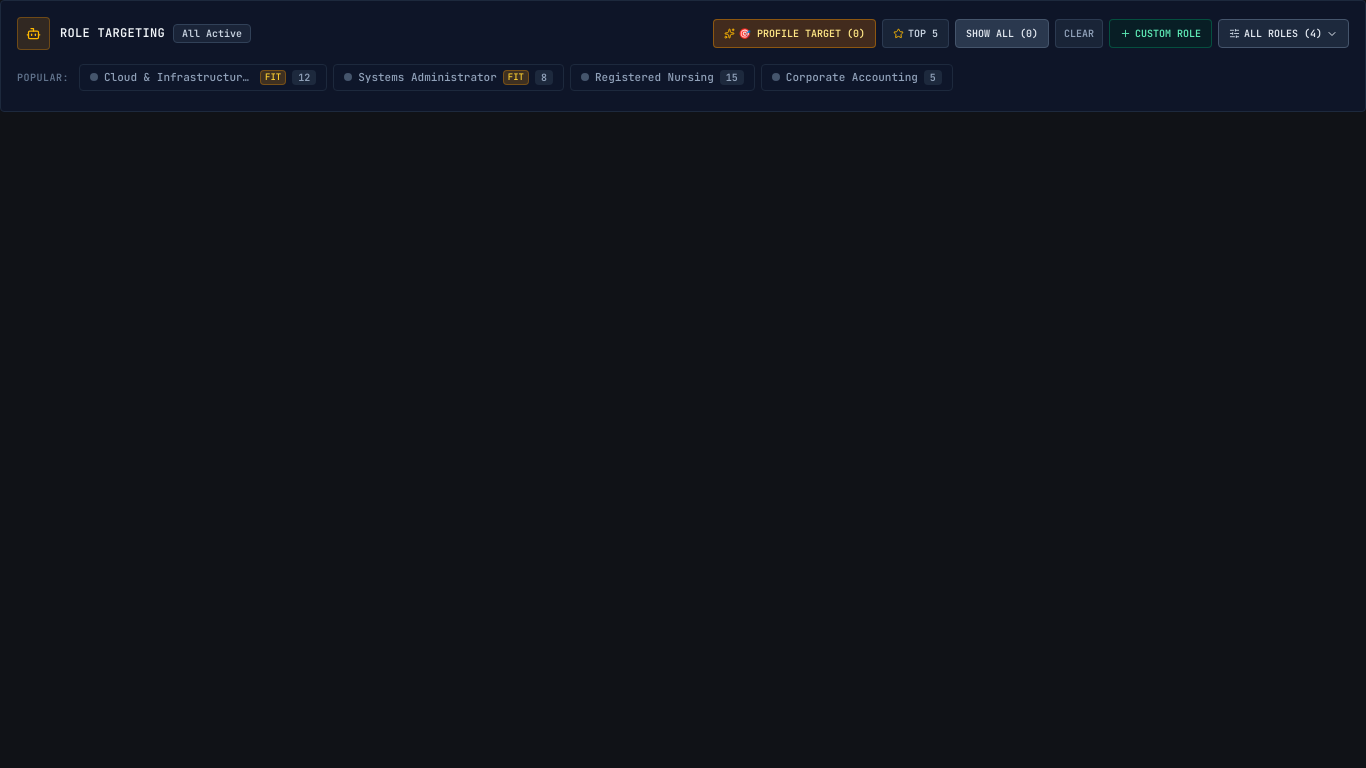
Test: RoleFilterBar › toggles collapsible drawer on click
Click the button "ALL ROLES (4)" at (1284, 34), box [1218,19,1349,48]
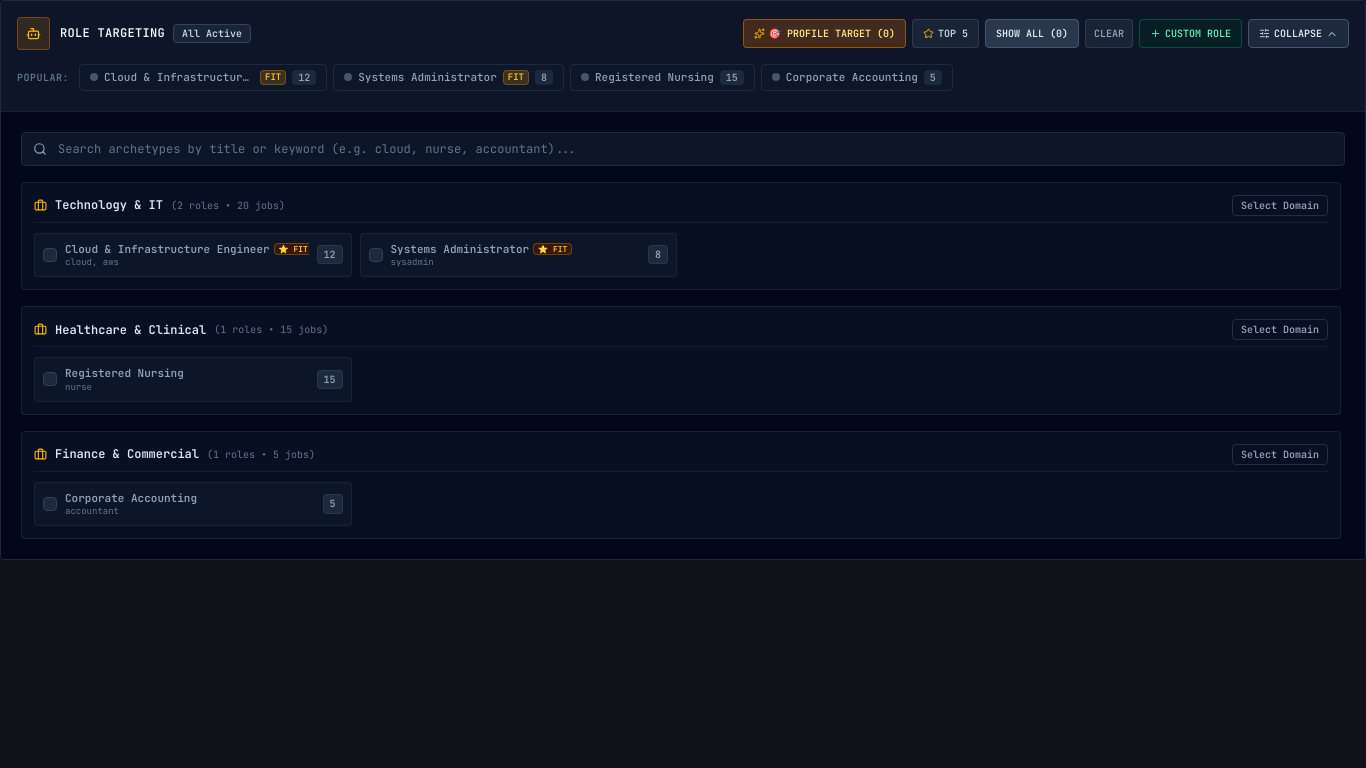
Check: the field with placeholder "Search archetypes by title or keyword" is shown, box [21,132,1345,166]
Check: the text "COLLAPSE" is shown, box [1274,26,1322,41]
